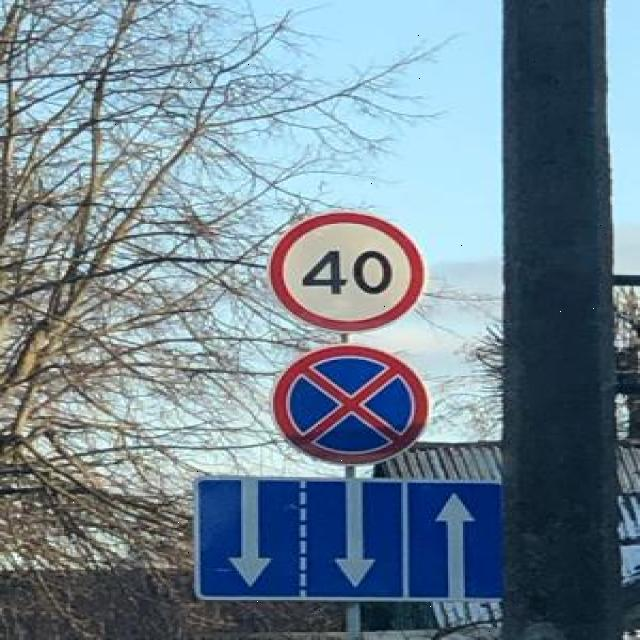speed limit 40: (270, 210, 426, 328)
